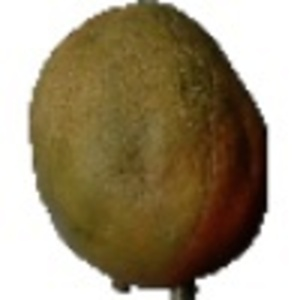mamão: (25, 3, 275, 284)
